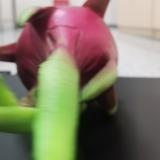pitaya: (8, 3, 117, 159)
